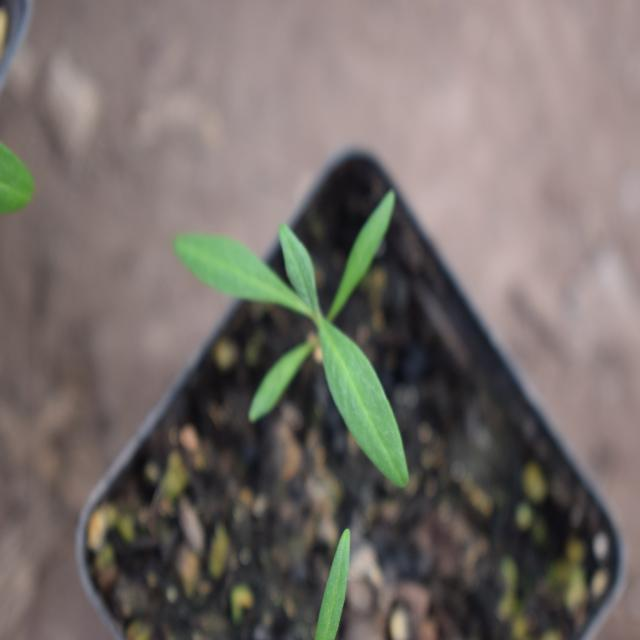white_smart_weed: (172, 169, 440, 501)
